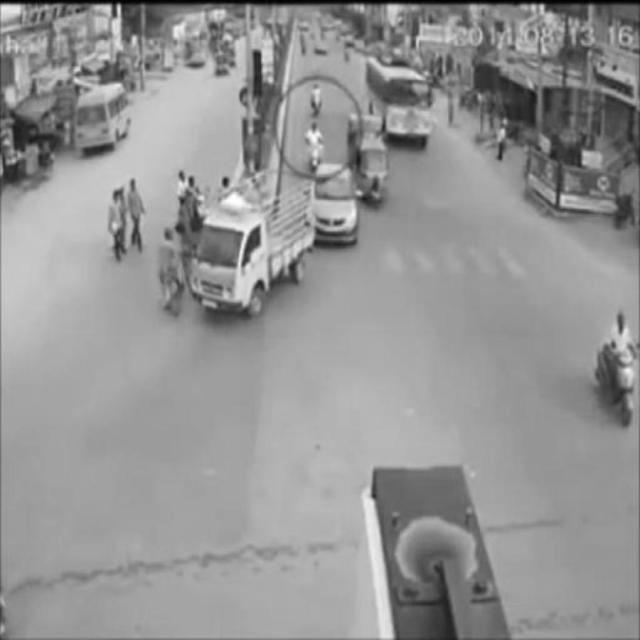person: (75, 81, 131, 151), (162, 225, 184, 318)
vehicle: (196, 188, 317, 306), (586, 307, 638, 429), (367, 55, 429, 151), (313, 156, 360, 252), (355, 147, 390, 204), (306, 120, 326, 180)
